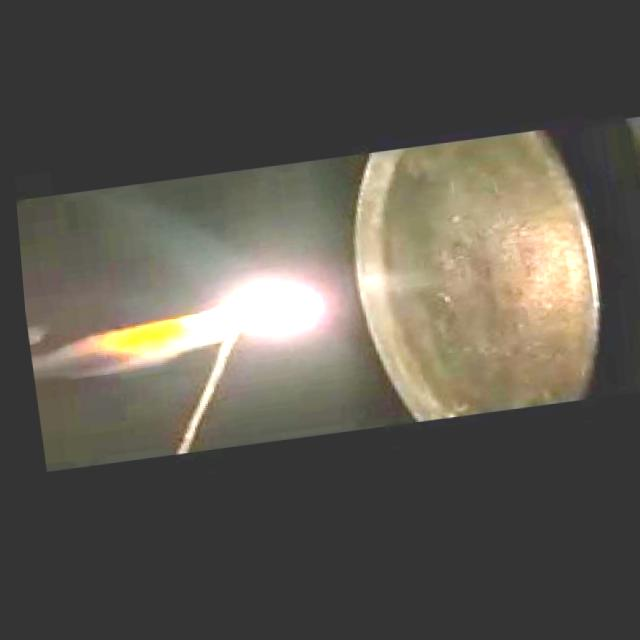helmet: (161, 283, 314, 360)
